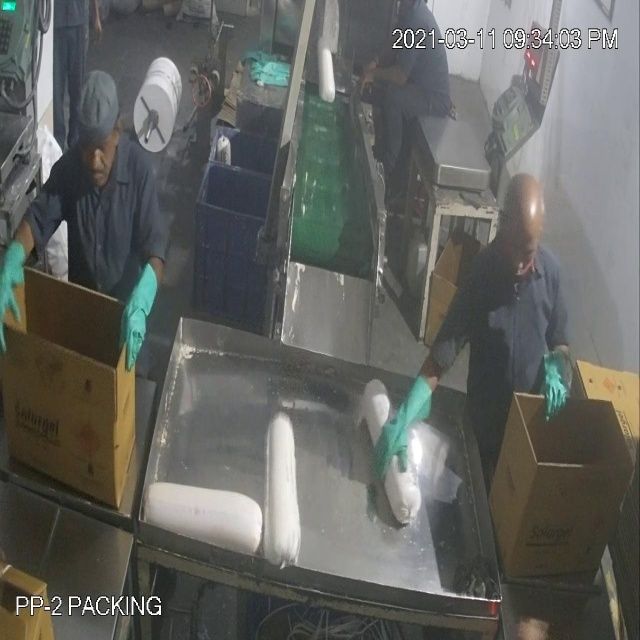Guantes: (362, 361, 437, 470)
Sin_guantes: (358, 53, 411, 100), (88, 1, 107, 53)
